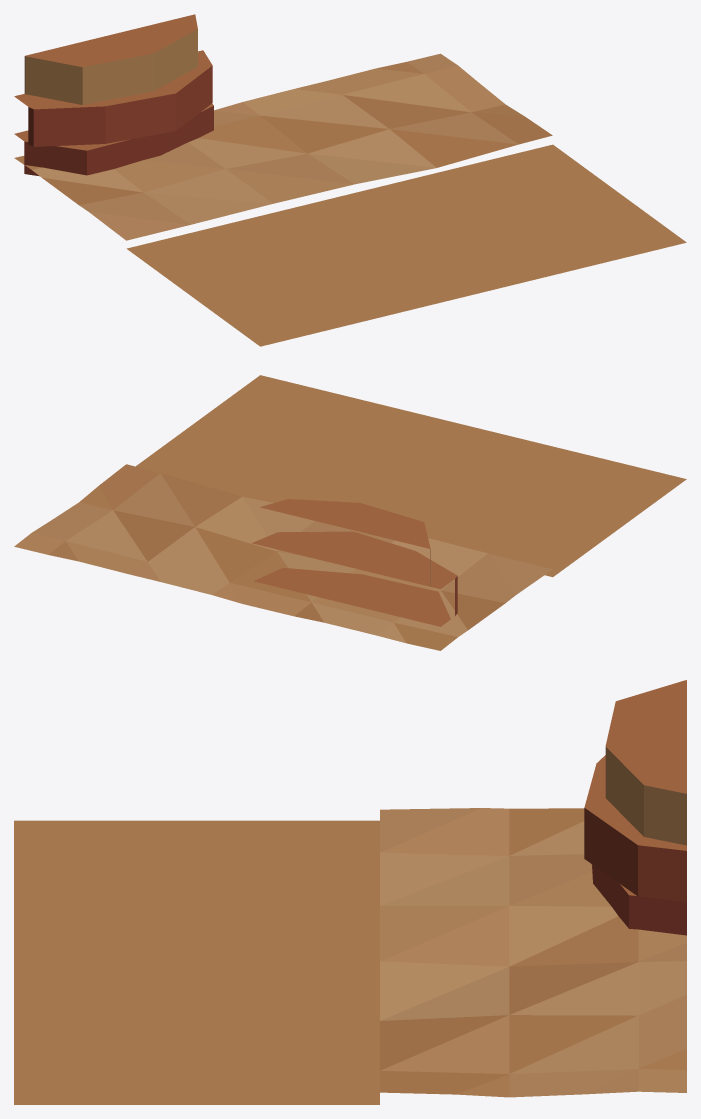
3 renders of one model, top to bottom at view 1: azimuth 30°, elevation 25°; view 2: azimuth 150°, elevation 25°; view 3: azimuth 270°, elevation 25°, orthographic. The views are drawn at different scales.
Parts seen in each view (by area): view 1: baked; view 2: baked; view 3: baked.
Part boxes in pixels (x1,y1,x2,y2): baked: (14,14,686,346); baked: (14,375,686,650); baked: (14,680,686,1104).
Size of the model in its own units: 62.5 by 15.11 by 62.5.
